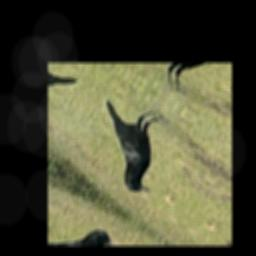Crow: (74, 83, 188, 200)
